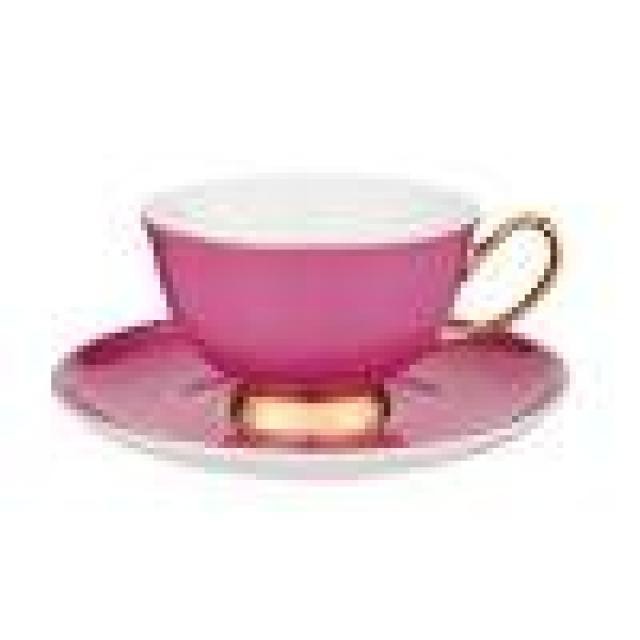taza: (106, 164, 570, 436)
